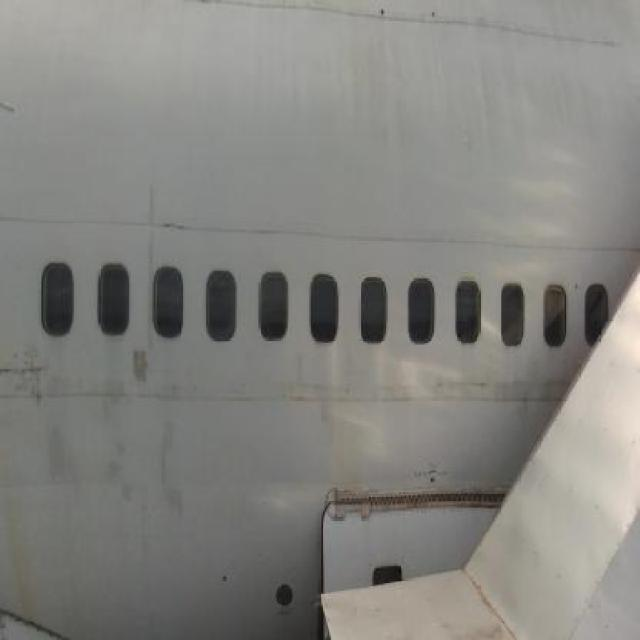Scartch: (126, 344, 160, 416)
